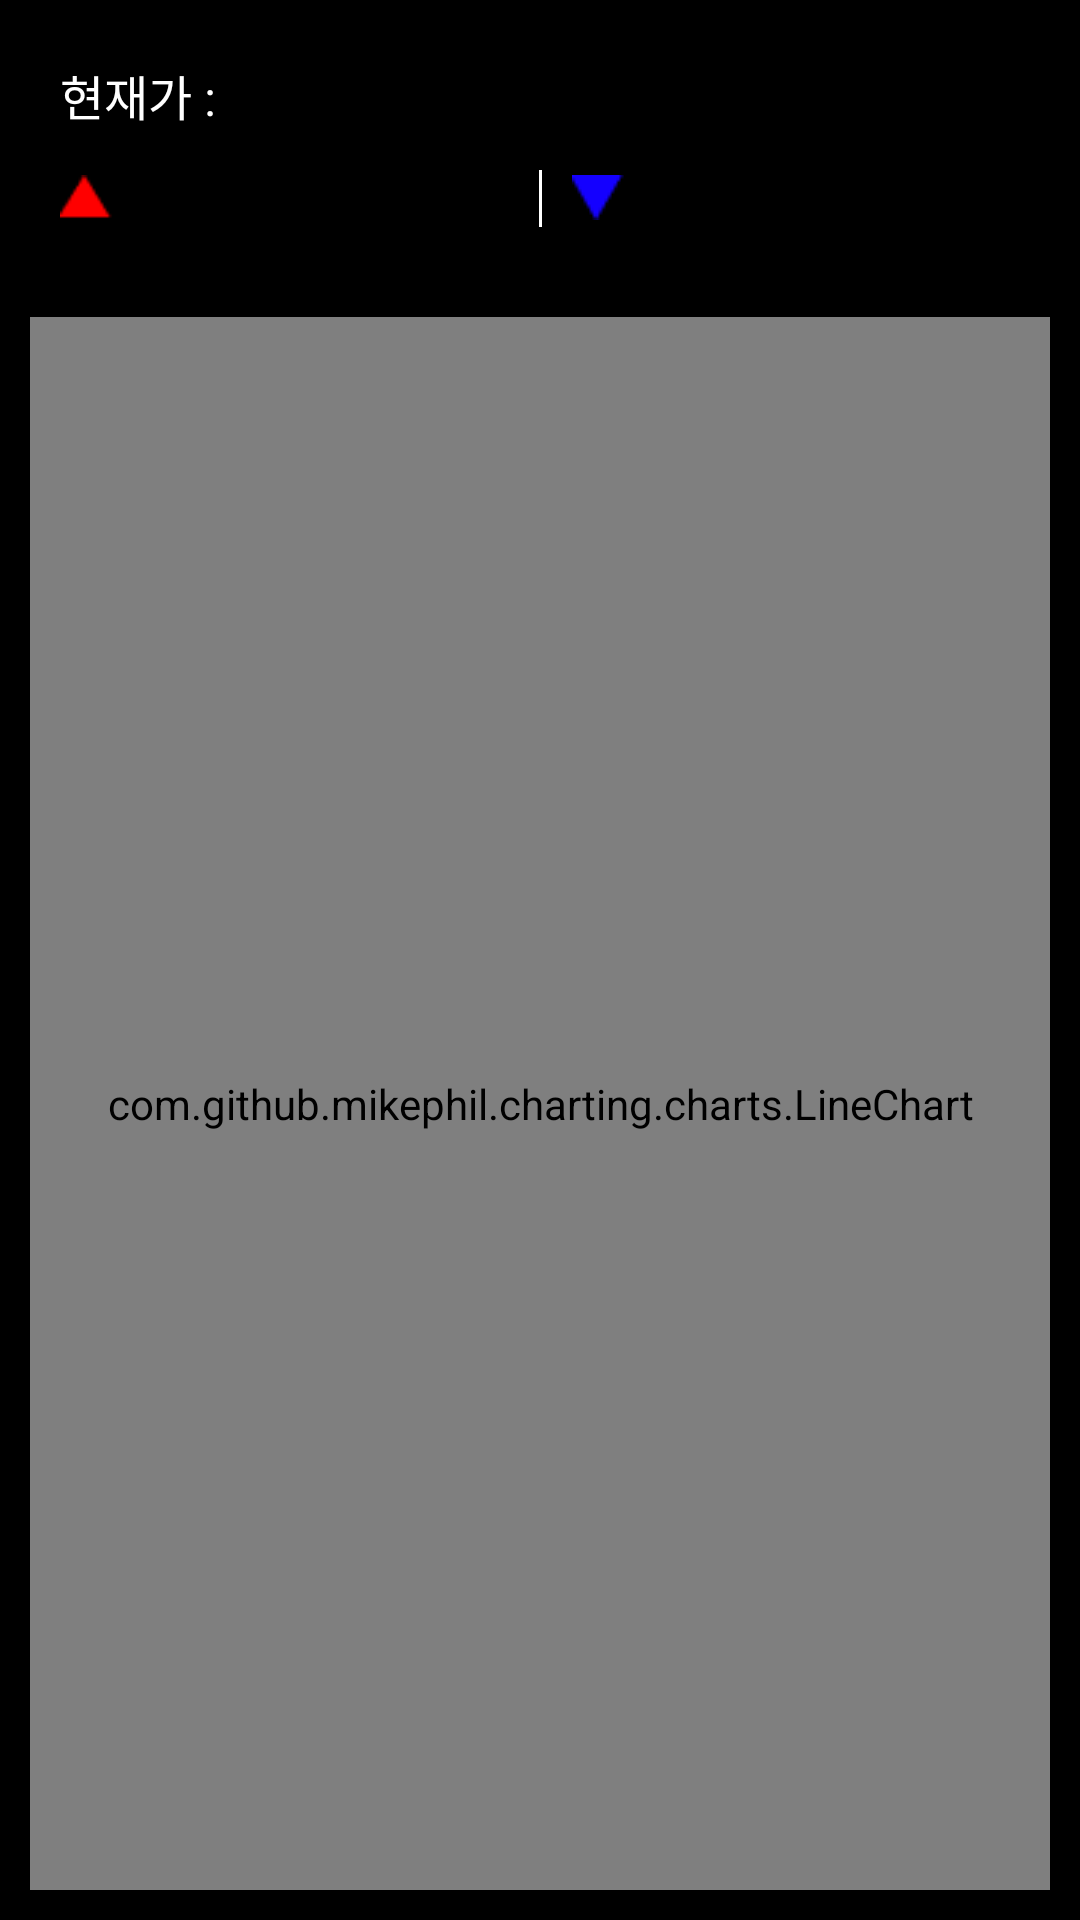

Point at icon controls on the screen. Image size 1080px x 1920px, points as (x=x, y=y).
down: (x=598, y=197)
